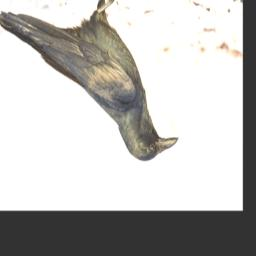Crow: (0, 0, 180, 163)
